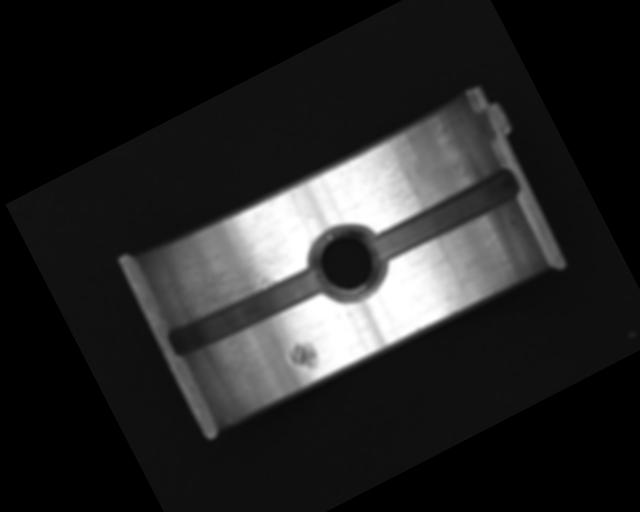bruise: (284, 336, 324, 378)
gap: (164, 255, 330, 366), (367, 165, 524, 266)
hole: (300, 211, 397, 313)
scratch: (151, 197, 313, 331)
